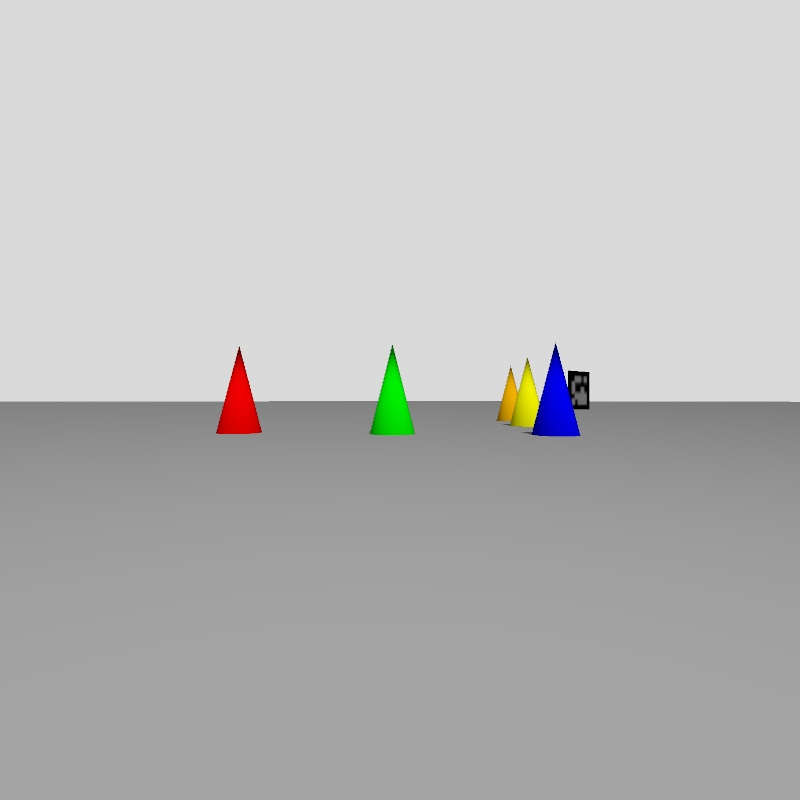Blue_cone: (532, 346, 579, 436)
Green_cone: (371, 346, 414, 434)
Orange_cone: (497, 368, 517, 421)
Red_cone: (216, 348, 261, 434)
Yellow_cone: (510, 361, 538, 427)
